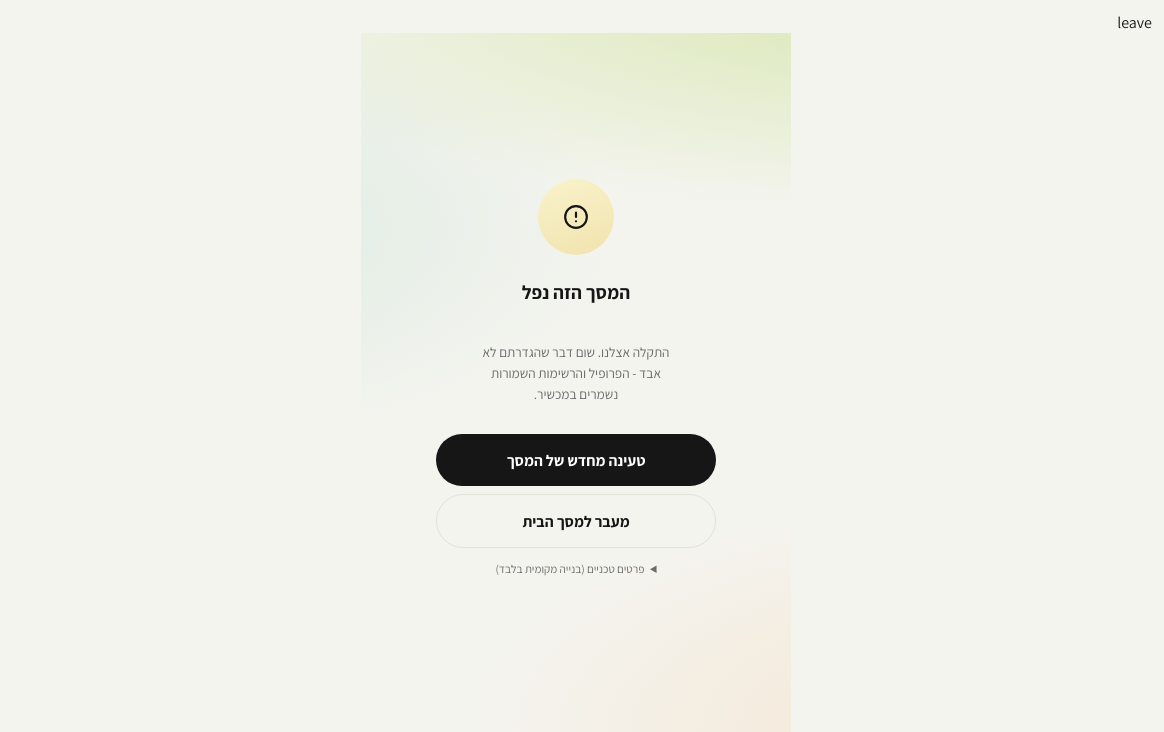
Scenario: the error page › clears the crash when the location changes
This screenshot has width=1164, height=732.
Expected: the heading "המסך הזה נפל" is shown, [522,280,630,304]
Click the link "leave" at (1135, 22), box [1117,12,1152,33]
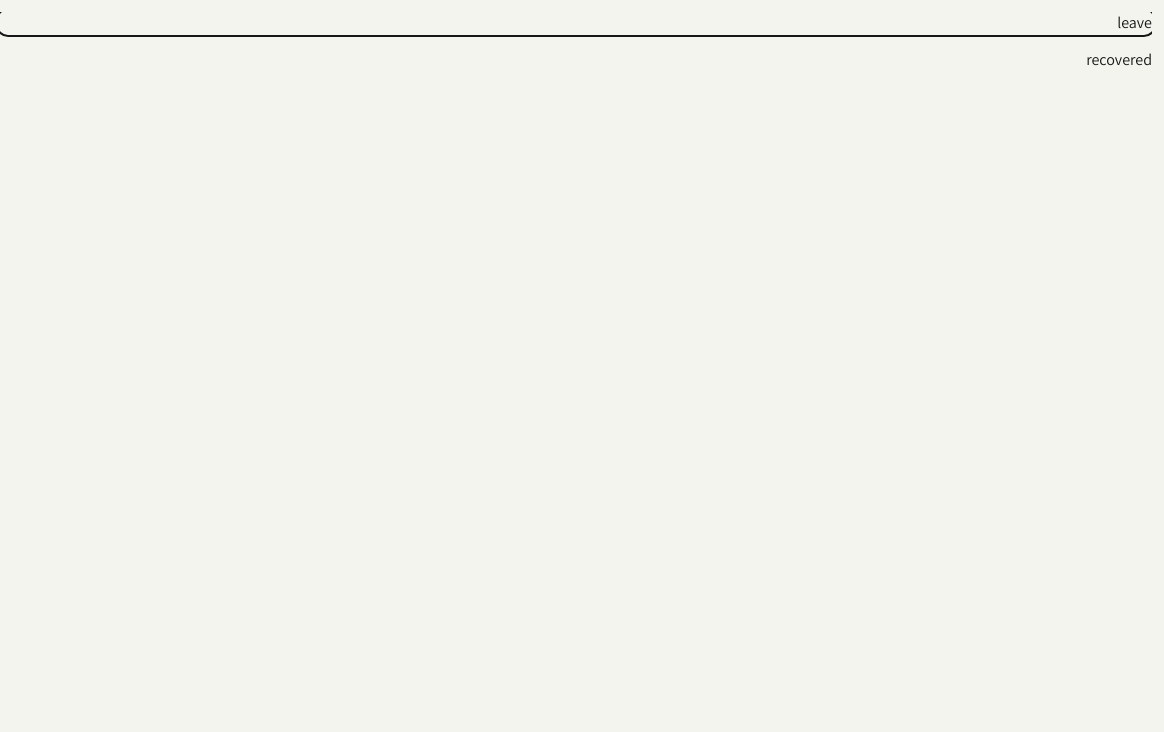
Now the text "recovered" is shown, box [1086,49,1152,70]
Now the heading "המסך הזה נפל" is gone
